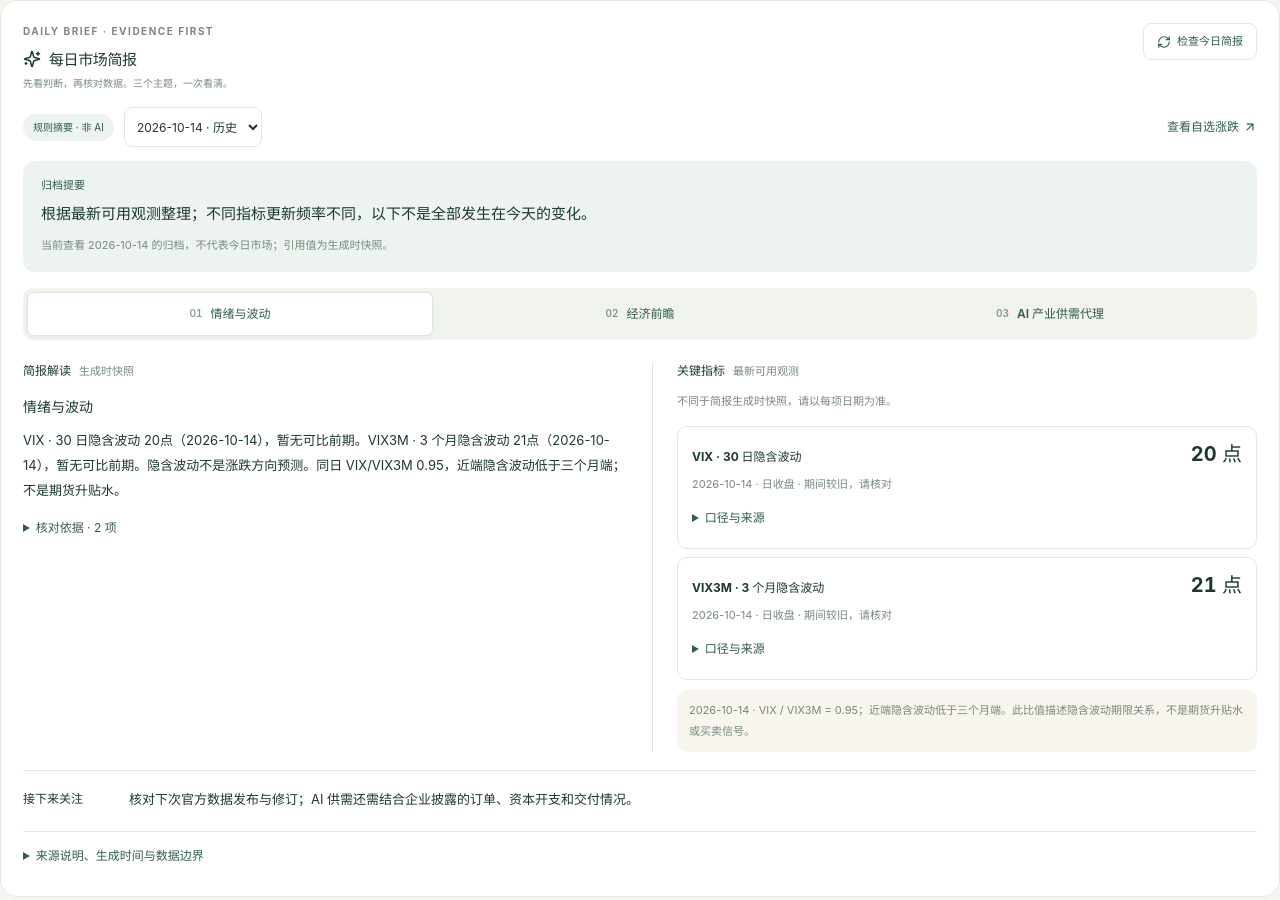
Test case: 缺失主题有明确空态，切换历史不会把当前指标冒充归档数据
The width and height of the screenshot is (1280, 900).
Expected: the text "根据最新可用观测整理；不同指标更新频率不同，以下不是全部发生在今天的变化。" is shown, [41,204,596,223]
Click the button "02 经济前瞻".
click(640, 314)  # box [437,292,843,336]
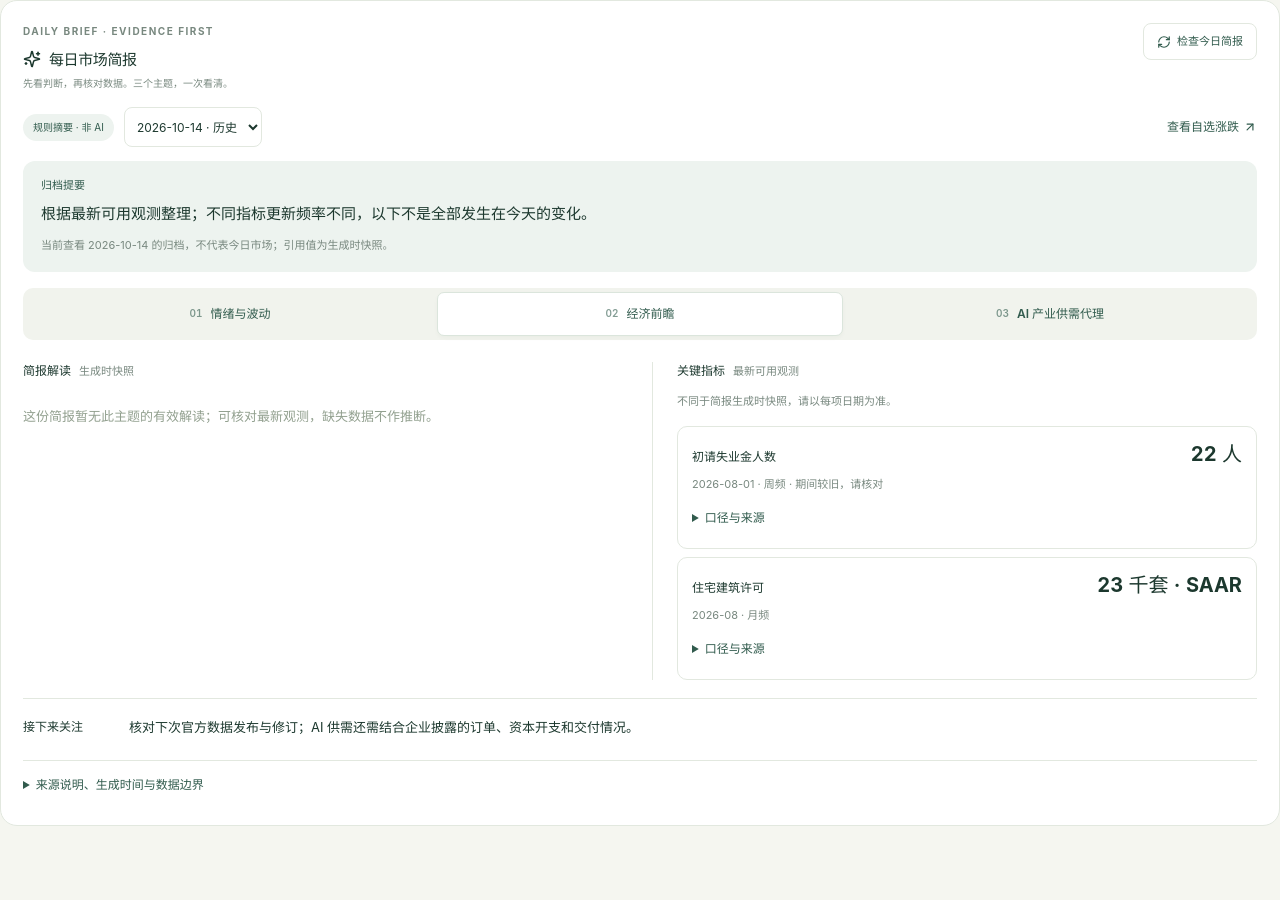
Expected: the text "不同于简报生成时快照，请以每项日期为准。" is shown, [677,394,897,408]
Now the text "这份简报暂无此主题的有效解读；可核对最新观测，缺失数据不作推断。" is shown, box [23,408,439,424]
Now the heading "初请失业金人数" is shown, box [692,448,776,467]
